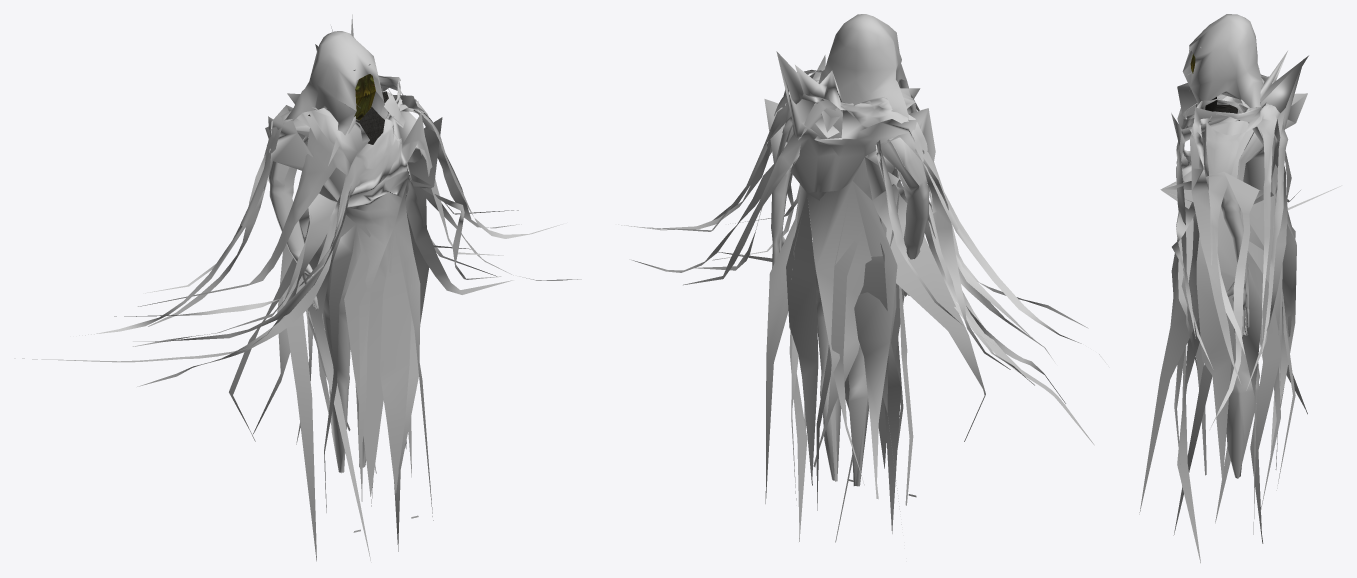
Rendered from wraith_anim.fbx.
The picture shows the model from 3 angles, left to right: view 1: azimuth 30°, elevation 25°; view 2: azimuth 150°, elevation 25°; view 3: azimuth 270°, elevation 25°; orthographic projection. The views are drawn at different scales.
Parts seen in each view (by area): view 1: Ruce, Telo, Hlava; view 2: Ruce, Telo, Hlava; view 3: Ruce, Telo, Hlava.
Part boxes in pixels (x1,y1,x2,y2): Ruce: (14,14,581,562); Telo: (265,87,422,532); Hlava: (285,31,388,165); Ruce: (618,51,1109,542); Telo: (771,81,929,497); Hlava: (798,14,919,152); Ruce: (1139,51,1342,563); Telo: (1187,72,1274,478); Hlava: (1182,14,1277,142).
Size of the model in its own units: 76.44 by 75.04 by 26.27.
